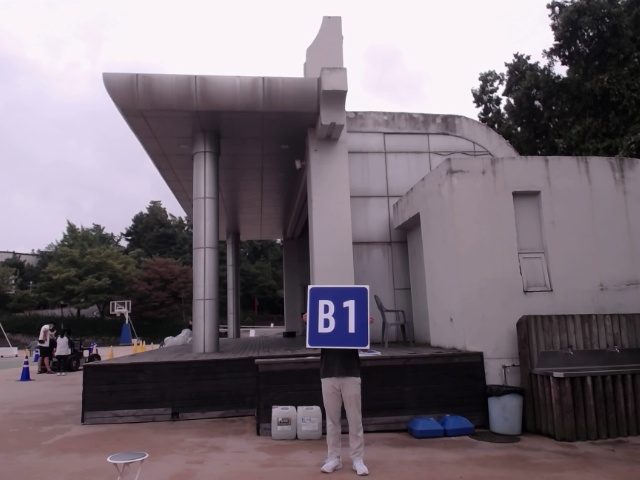delivery_b1: (308, 285, 369, 348)
